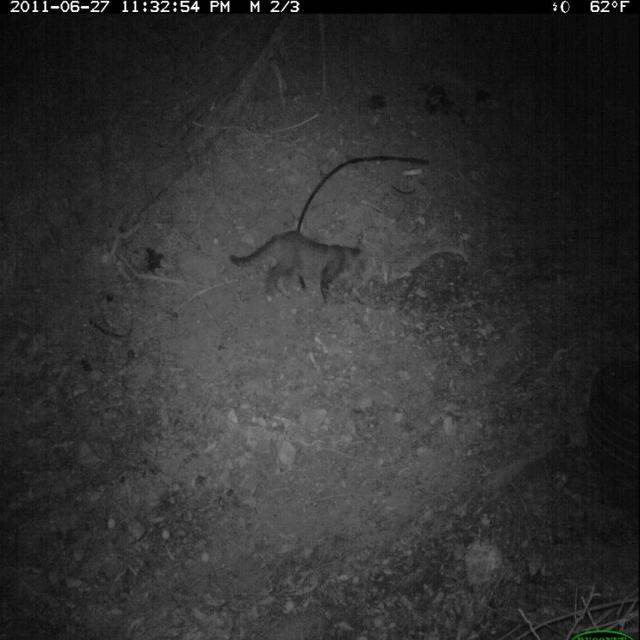cat: (228, 229, 371, 314)
